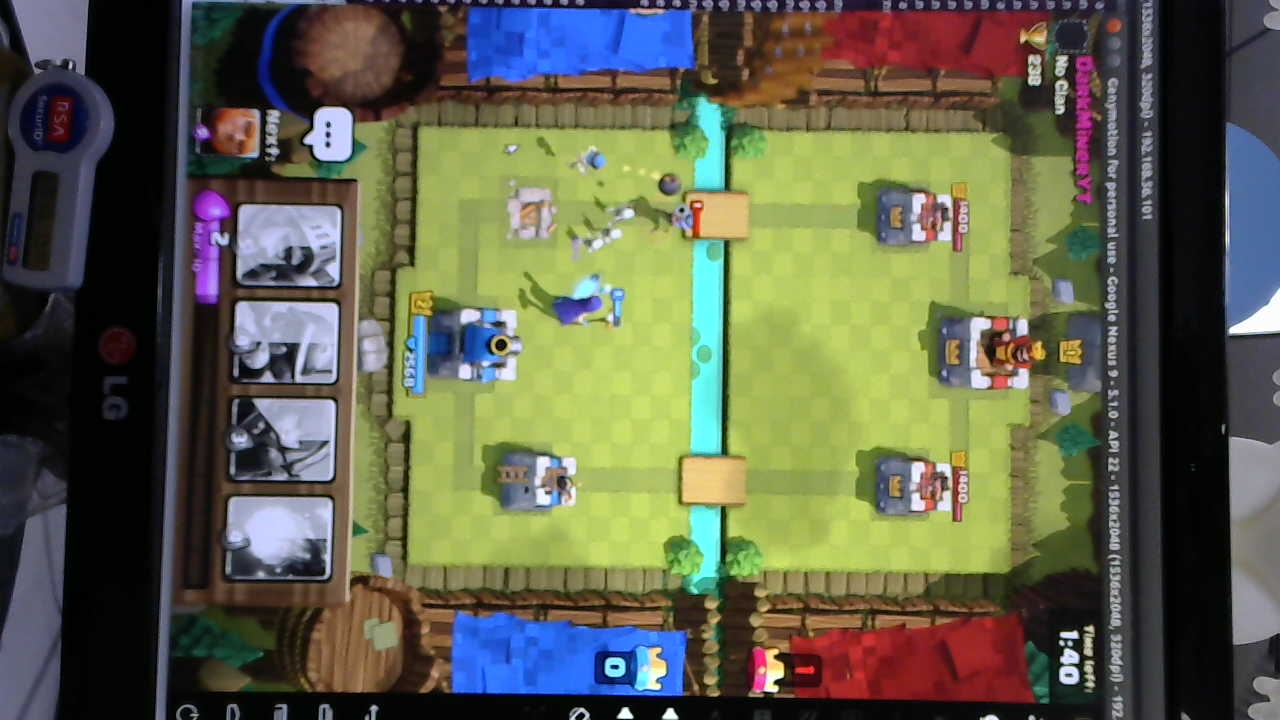arena: (500, 452, 576, 516)
bomb: (566, 141, 609, 180)
darena: (506, 180, 557, 242)
earena: (869, 453, 951, 520), (872, 188, 953, 246)
eking: (930, 313, 1039, 394)
king: (430, 305, 524, 385)
musketeer: (662, 204, 696, 235)
skeleton: (573, 199, 636, 255)
witch: (545, 292, 616, 327)
